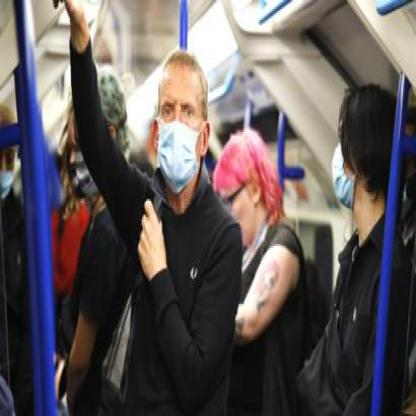Not_Wearing_Mask: (328, 107, 382, 215), (157, 78, 200, 190)
